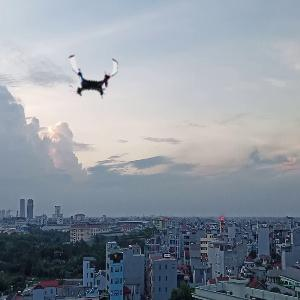drone: (67, 49, 123, 105)
